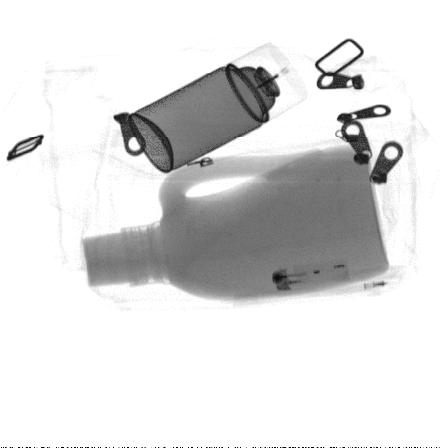Lighter: (270, 257, 352, 293)
Sprayer: (129, 41, 307, 174)
